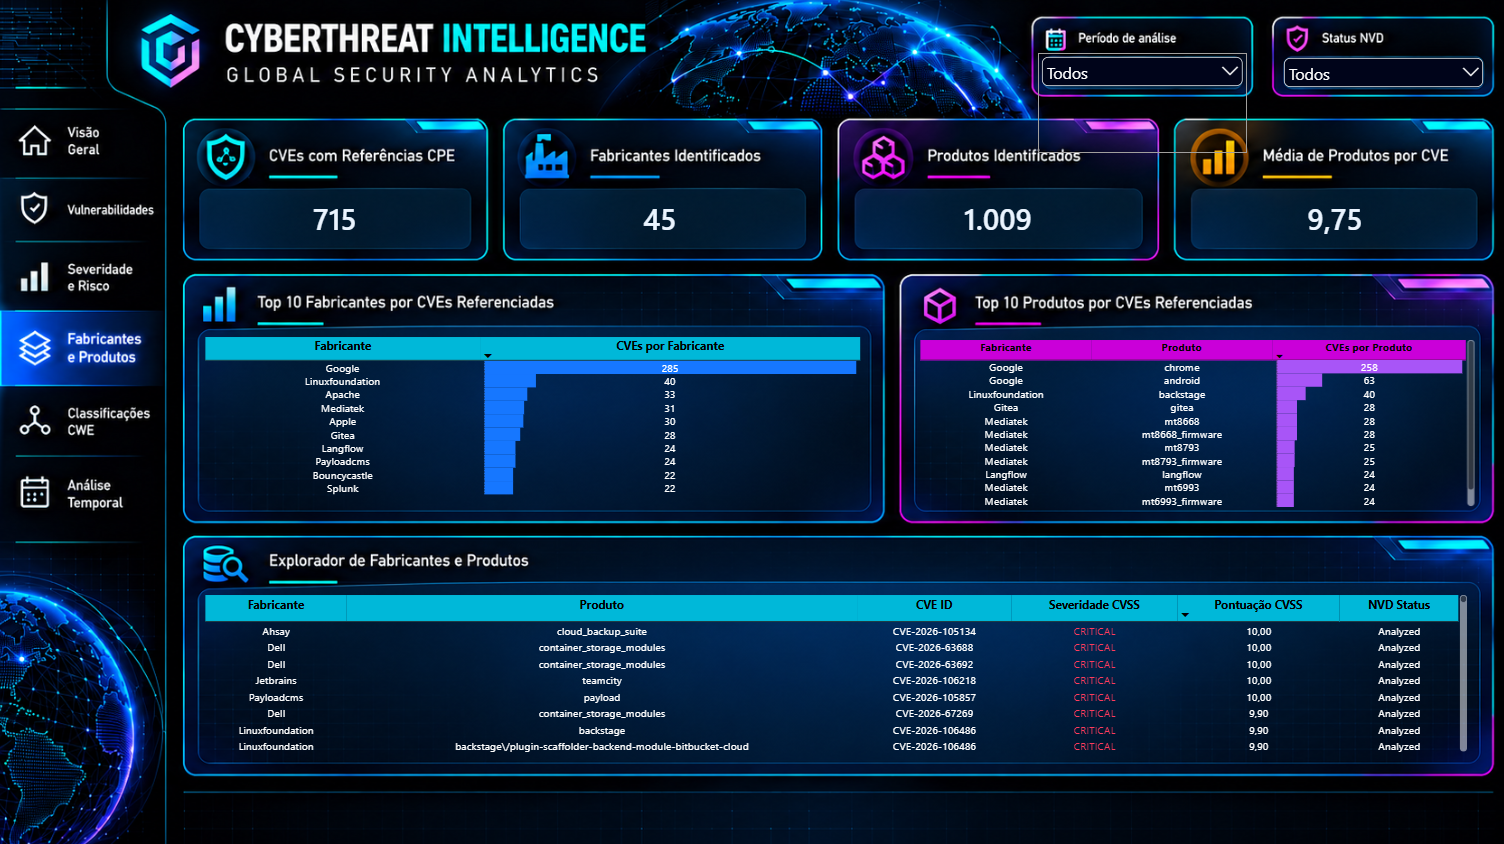

Layout of this report page (visuals, bound fields, positions):
{"tool":"powerbi","page":{"name":"Fabricantes e Produtos","canvas":[1920,1080],"ordinal":3},"visuals":[{"type":"slicer","fields":{"Values":["dim_data.data"]},"box":[1324.5,68.8,264.6,127],"z":0},{"type":"slicer","fields":{"Values":["dim_status.status_nvd"]},"box":[1631.5,70.1,263.3,128.4],"z":1000},{"type":"card","fields":{"Values":["_Medidas.CVEs com Referências CPE"]},"box":[260.1,238.4,340.4,81.6],"z":2000},{"type":"card","fields":{"Values":["_Medidas.Fabricantes Identificados"]},"box":[664.2,238.4,358.2,81.6],"z":3000},{"type":"card","fields":{"Values":["_Medidas.Produtos Identificados"]},"box":[1088.8,238.3,368.5,81.7],"z":4000},{"type":"card","fields":{"Values":["_Medidas.Média de Produtos por CVE"]},"box":[1516.9,238.3,368.5,81.7],"z":5000},{"type":"tableEx","fields":{"Values":["dim_produto.fabricante","_Medidas.CVEs por Fabricante"]},"box":[249.1,416.1,865.9,241],"z":6000},{"type":"tableEx","fields":{"Values":["dim_produto.fabricante","dim_produto.produto","_Medidas.CVEs por Produto"]},"box":[1158.1,418.8,736.6,241],"z":7000},{"type":"tableEx","fields":{"Values":["dim_produto.fabricante","dim_produto.produto","ponte_cve_produto.cve_id","fato_vulnerabilidade.cvss_severidade","fato_vulnerabilidade.cvss_pontuacao","fato_vulnerabilidade.status_nvd"]},"box":[249.1,743.3,1636.2,228.9],"z":8000},{"type":"actionButton","box":[0,237.6,100.4,55.9],"z":9000},{"type":"actionButton","box":[10.2,322.7,81.3,66.1],"z":10000},{"type":"actionButton","box":[0,506.2,88.9,59.7],"z":10001},{"type":"actionButton","box":[10,595,78.8,68.8],"z":10002},{"type":"actionButton","box":[22.5,156.2,52.5,53.8],"z":10003}]}

Visuals, with their boxes on the page's 1920x1080 design canvas (x1, y1, x2, y2). These are canvas units, not pixel positions in the 1504x844 screenshot, which may show the page scaled, cropped or inside an application window:
slicer - dim_data.data: bbox=[1324, 69, 1589, 196]
slicer - dim_status.status_nvd: bbox=[1632, 70, 1895, 198]
card - _Medidas.CVEs com Referências CPE: bbox=[260, 238, 600, 320]
card - _Medidas.Fabricantes Identificados: bbox=[664, 238, 1022, 320]
card - _Medidas.Produtos Identificados: bbox=[1089, 238, 1457, 320]
card - _Medidas.Média de Produtos por CVE: bbox=[1517, 238, 1885, 320]
tableEx - dim_produto.fabricante x _Medidas.CVEs por Fabricante: bbox=[249, 416, 1115, 657]
tableEx - dim_produto.fabricante x dim_produto.produto: bbox=[1158, 419, 1895, 660]
tableEx - dim_produto.fabricante x dim_produto.produto: bbox=[249, 743, 1885, 972]
actionButton: bbox=[0, 238, 100, 294]
actionButton: bbox=[10, 323, 92, 389]
actionButton: bbox=[0, 506, 89, 566]
actionButton: bbox=[10, 595, 89, 664]
actionButton: bbox=[22, 156, 75, 210]
